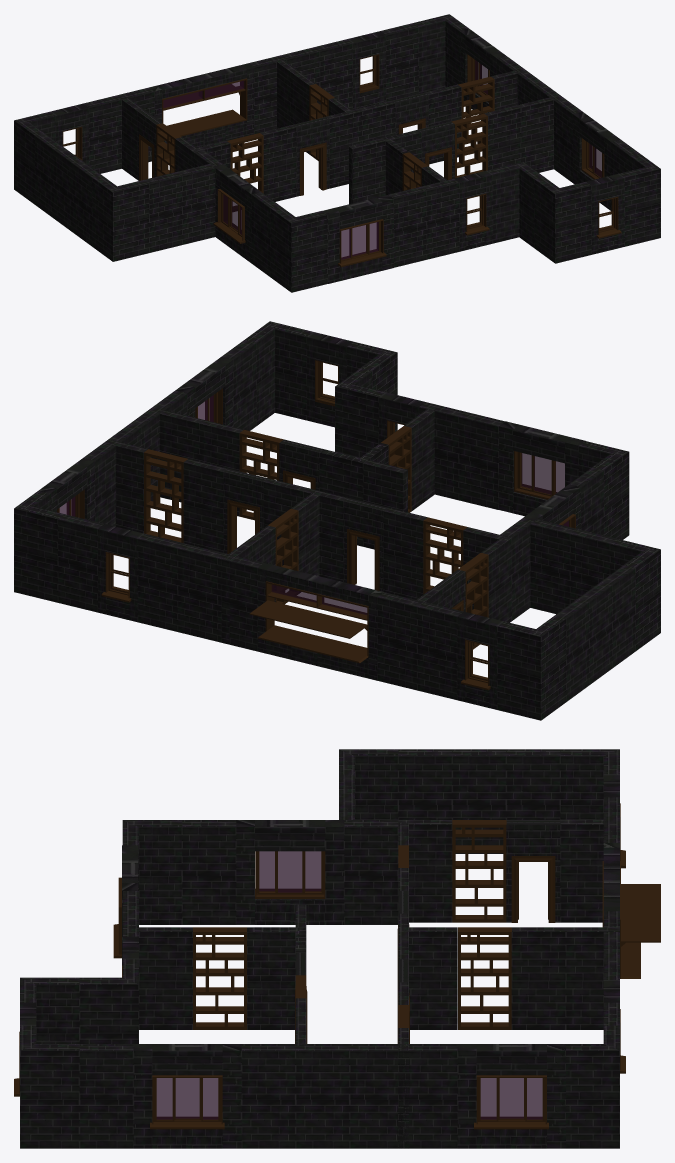
File: blocking with textures.fbx
3 views of the same model, one above another, from view 1: azimuth 30°, elevation 25°; view 2: azimuth 150°, elevation 25°; view 3: azimuth 270°, elevation 25° (orthographic). The views are drawn at different scales.
Parts seen in each view (by area): view 1: Cube.470, Cube.375, Cube.404, Cube.410, Cube.377, Cube.394, Cube.397, Cube.376, Cube.380, Cube.374, Cube.385, Cube.398 (+1 smaller); view 2: Cube.470, Cube.375, Cube.411, Cube.377, Cube.376, Cube.366, Cube.410, Cube.362, Cube.397, Cube.389, Cube.398; view 3: Cube.470, Cube.411, Cube.372, Cube.402, Cube.407, Cube.369, Cube.399, Cube.380, Cube.408, Cube.373, Cube.403, Cube.375 (+1 smaller).
Boxes of the visible parts, x1,y1,x2,y2 form: Cube.470: [14, 14, 660, 292]; Cube.375: [162, 78, 247, 140]; Cube.404: [213, 189, 245, 243]; Cube.410: [163, 81, 244, 107]; Cube.377: [299, 142, 326, 195]; Cube.394: [338, 219, 386, 267]; Cube.397: [341, 222, 378, 259]; Cube.376: [163, 86, 245, 110]; Cube.380: [139, 134, 154, 180]; Cube.374: [596, 196, 621, 238]; Cube.385: [465, 193, 489, 235]; Cube.398: [352, 225, 366, 256]; Cube.470: [14, 321, 660, 720]; Cube.375: [257, 581, 368, 663]; Cube.411: [249, 600, 367, 638]; Cube.377: [347, 529, 379, 590]; Cube.376: [267, 591, 367, 620]; Cube.366: [227, 499, 259, 553]; Cube.410: [271, 584, 367, 614]; Cube.362: [101, 552, 131, 602]; Cube.397: [521, 453, 564, 493]; Cube.389: [461, 639, 490, 690]; Cube.398: [534, 456, 551, 494]; Cube.470: [20, 749, 619, 1148]; Cube.411: [621, 884, 660, 946]; Cube.372: [480, 1078, 542, 1119]; Cube.402: [156, 1078, 218, 1119]; Cube.407: [259, 851, 321, 891]; Cube.369: [474, 1075, 548, 1129]; Cube.399: [150, 1075, 224, 1129]; Cube.380: [511, 856, 555, 922]; Cube.408: [278, 851, 302, 892]; Cube.373: [499, 1078, 523, 1118]; Cube.403: [175, 1078, 199, 1118]; Cube.375: [602, 861, 640, 978].
Size of the model in its own units: 2674 by 400 by 2395.
